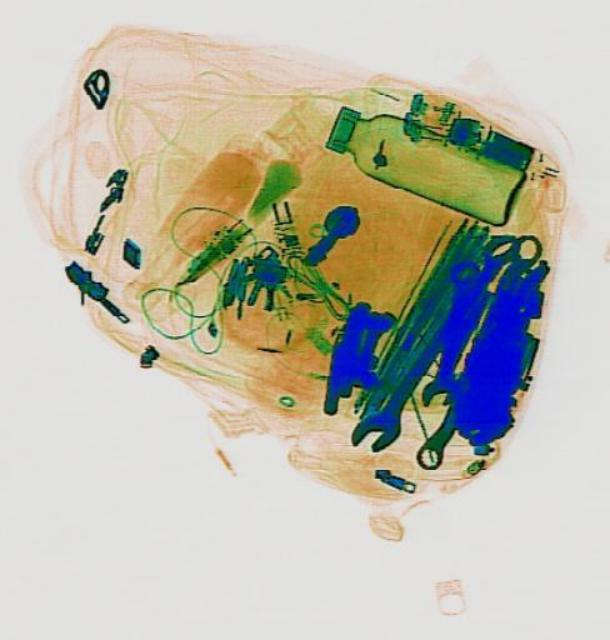Wrench: (342, 223, 530, 459), (419, 256, 485, 408)
